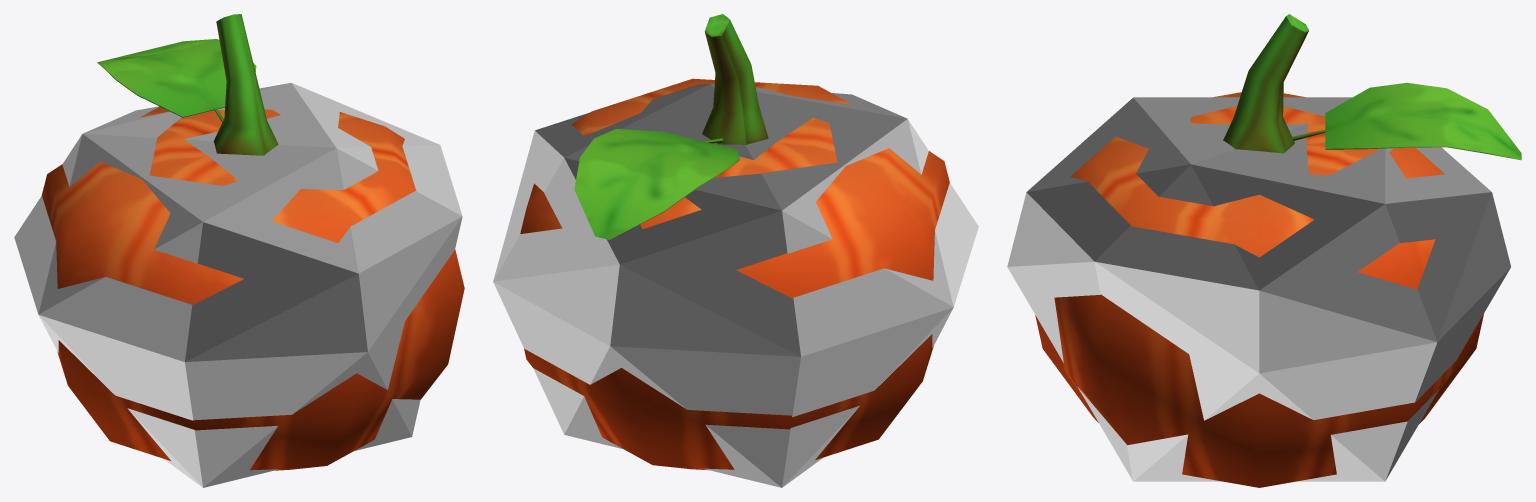
Rendered from SM_Vegetables01_2.fbx.
The picture shows the model from 3 angles, left to right: view 1: azimuth 30°, elevation 25°; view 2: azimuth 150°, elevation 25°; view 3: azimuth 270°, elevation 25°; orthographic projection. The views are drawn at different scales.
Parts seen in each view (by area): view 1: SM_Vegetables01_2_ConvexHulls, SM_Vegetables01_2; view 2: SM_Vegetables01_2_ConvexHulls, SM_Vegetables01_2; view 3: SM_Vegetables01_2_ConvexHulls, SM_Vegetables01_2.
Part boxes in pixels (bbox=[...]): SM_Vegetables01_2_ConvexHulls: bbox=[14, 82, 462, 487]; SM_Vegetables01_2: bbox=[42, 14, 464, 470]; SM_Vegetables01_2_ConvexHulls: bbox=[493, 83, 978, 487]; SM_Vegetables01_2: bbox=[520, 14, 949, 470]; SM_Vegetables01_2_ConvexHulls: bbox=[1007, 97, 1510, 481]; SM_Vegetables01_2: bbox=[1035, 14, 1521, 487].
Size of the model in its own units: 40.93 by 41.78 by 40.5.
2 materials, 1 textured.
